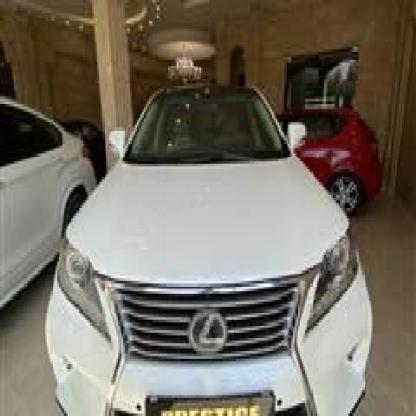Car: (50, 62, 376, 416), (0, 75, 95, 345), (265, 88, 383, 229)
